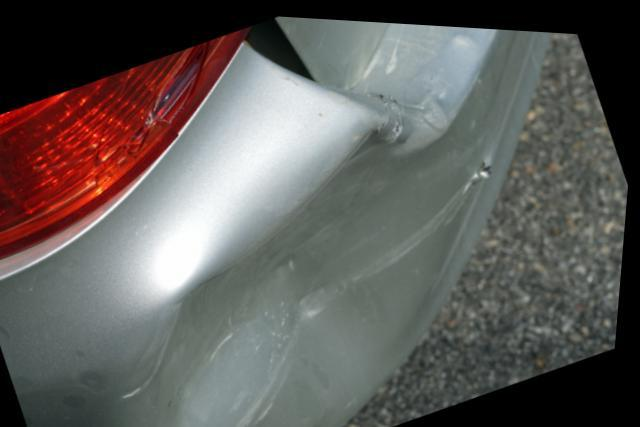dent: (130, 123, 490, 427)
lamp broken: (0, 21, 254, 261)
